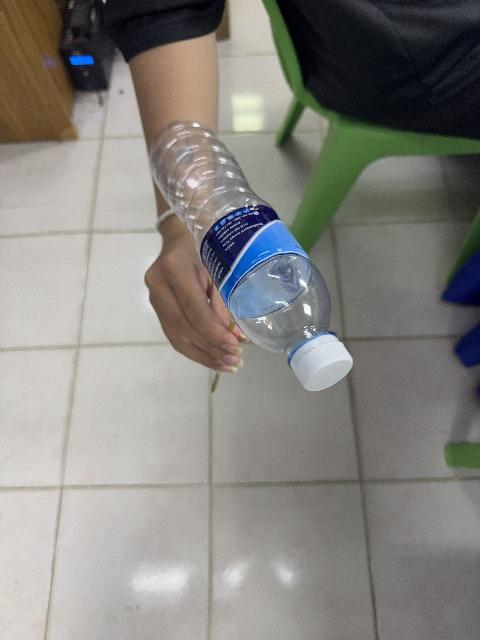bottle: (150, 123, 352, 390)
